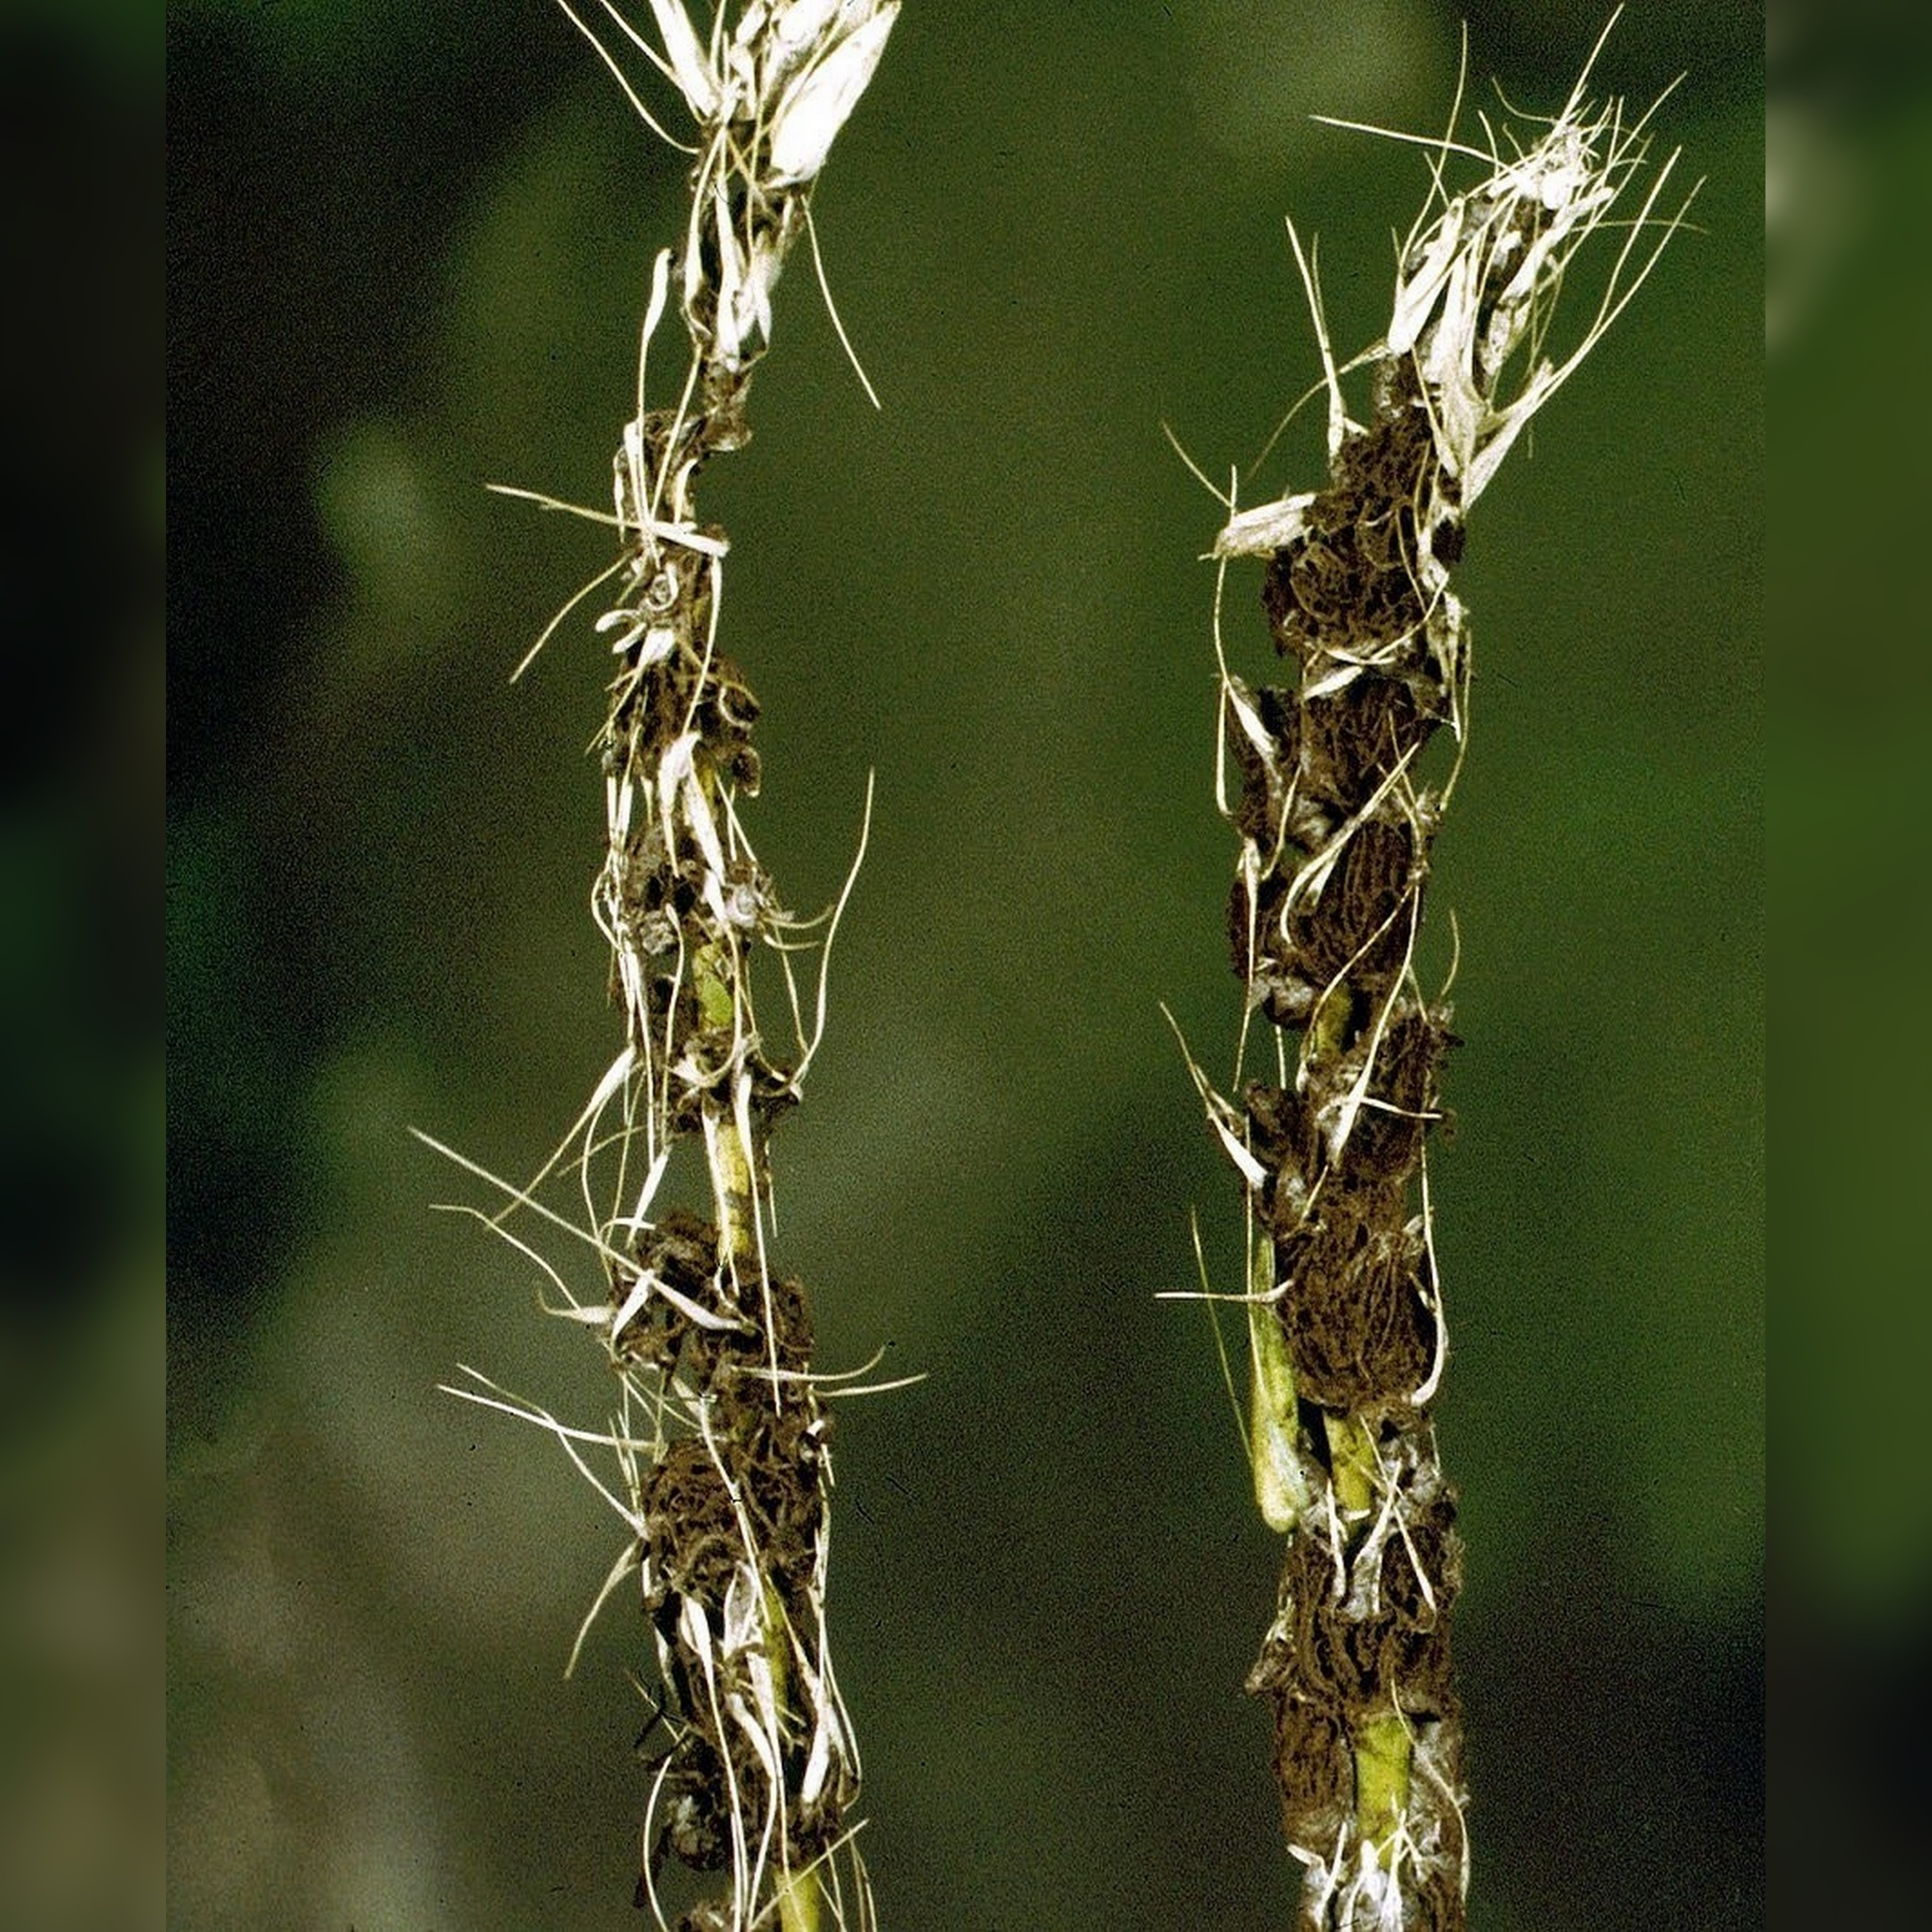Wheat Loose Smut: (1024, 97, 1674, 1852)
